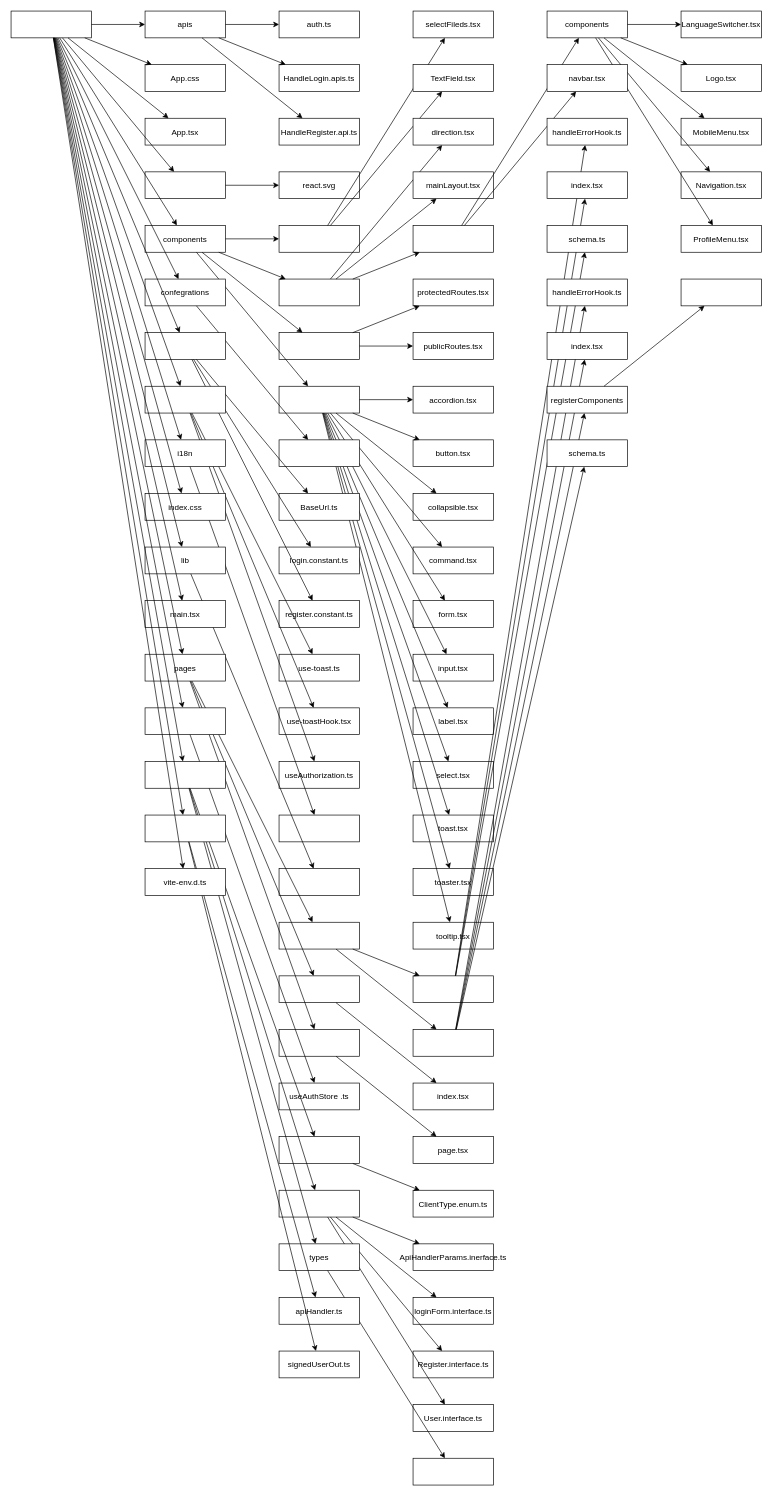
This 773x1496 diagram has some shape labels left out. The shapes that lost their labels are listed below. From the top down, each one's box as (x1, y1, x2, y2) in pixels, then its label:
(10, 10, 91, 38): src
(144, 171, 225, 199): assets
(278, 225, 359, 252): custom
(412, 225, 493, 252): navbar
(278, 278, 359, 306): layout
(680, 278, 761, 306): B2BFields.tsx
(144, 332, 225, 359): constants
(278, 332, 359, 359): publica&protectedRoutes
(144, 386, 225, 413): hooks
(278, 386, 359, 413): ui
(278, 439, 359, 467): routesConfig.tsx
(144, 707, 225, 735): store
(144, 761, 225, 788): ts
(144, 814, 225, 842): utls
(278, 814, 359, 842): index.js
(278, 868, 359, 895): utils.ts
(278, 922, 359, 949): Auth
(278, 975, 359, 1003): dashboard
(412, 975, 493, 1003): login
(278, 1029, 359, 1056): notFound
(412, 1029, 493, 1056): register
(278, 1136, 359, 1163): enum
(278, 1190, 359, 1217): interface
(412, 1458, 493, 1485): HttpMehod.type.ts
